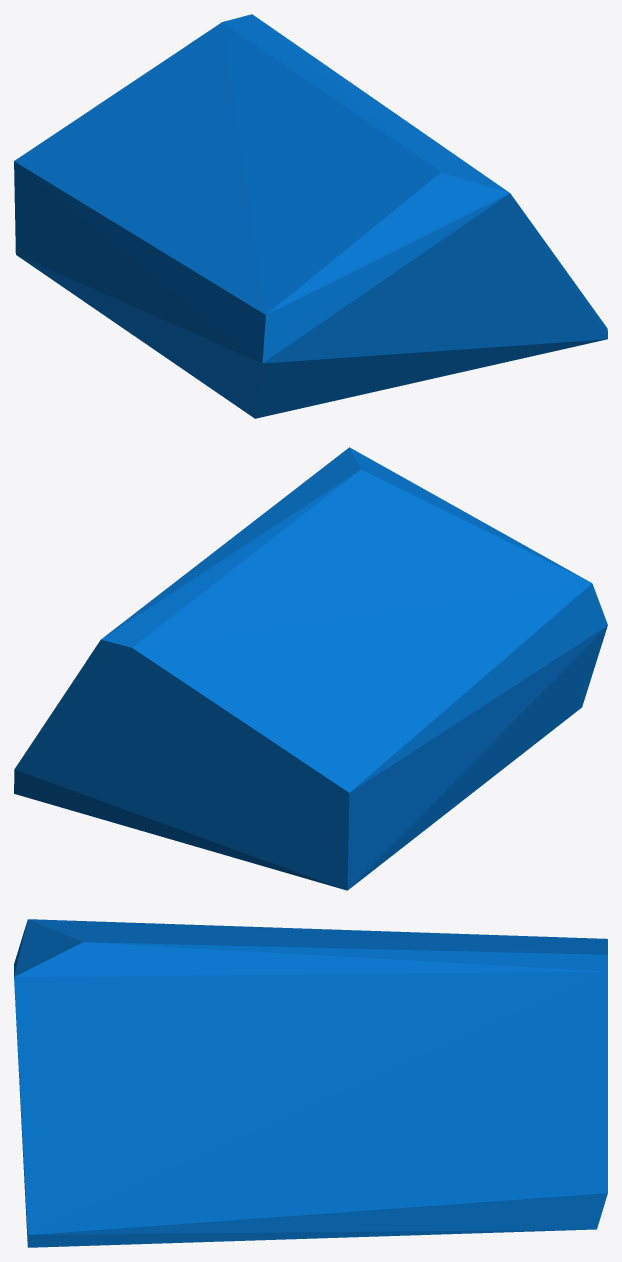
File: pent_convex_piece_000.obj
3 views of the same model, one above another, from view 1: azimuth 30°, elevation 25°; view 2: azimuth 150°, elevation 25°; view 3: azimuth 270°, elevation 25° (orthographic). The views are drawn at different scales.
Size of the model in its own units: 0.0226 by 0.0118 by 0.0276.
